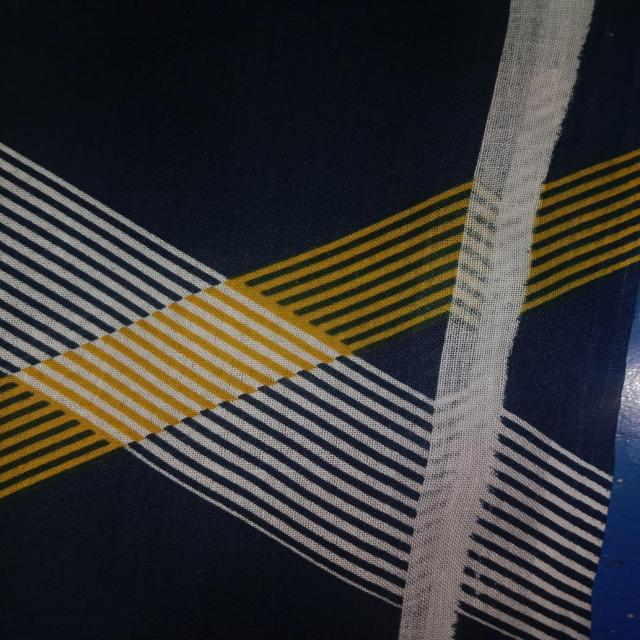selvet: (411, 2, 614, 640)
